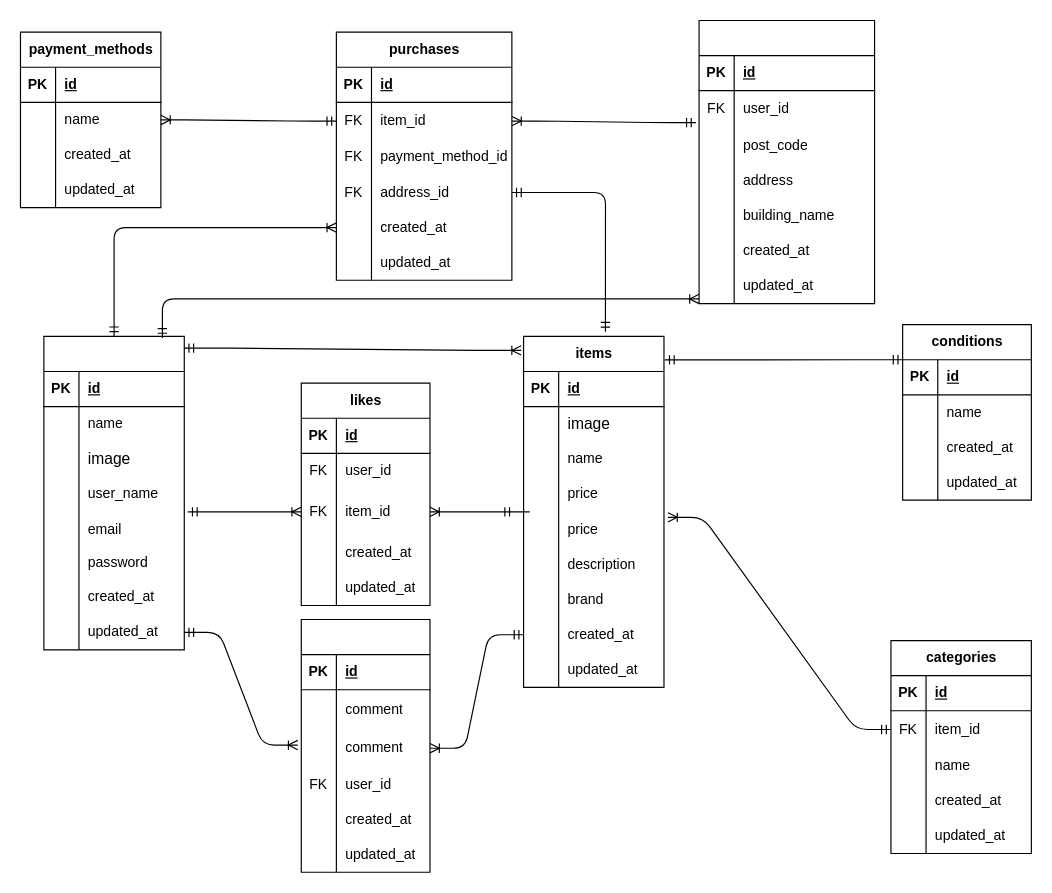
Image size: 1052x893. Some labels were removed from this diagram. The box of each missing label's shape, as (x1, y1, x2, y2) in pixels:
addresses: (698, 19, 875, 304)
comments: (300, 618, 430, 872)
users: (43, 335, 184, 650)
